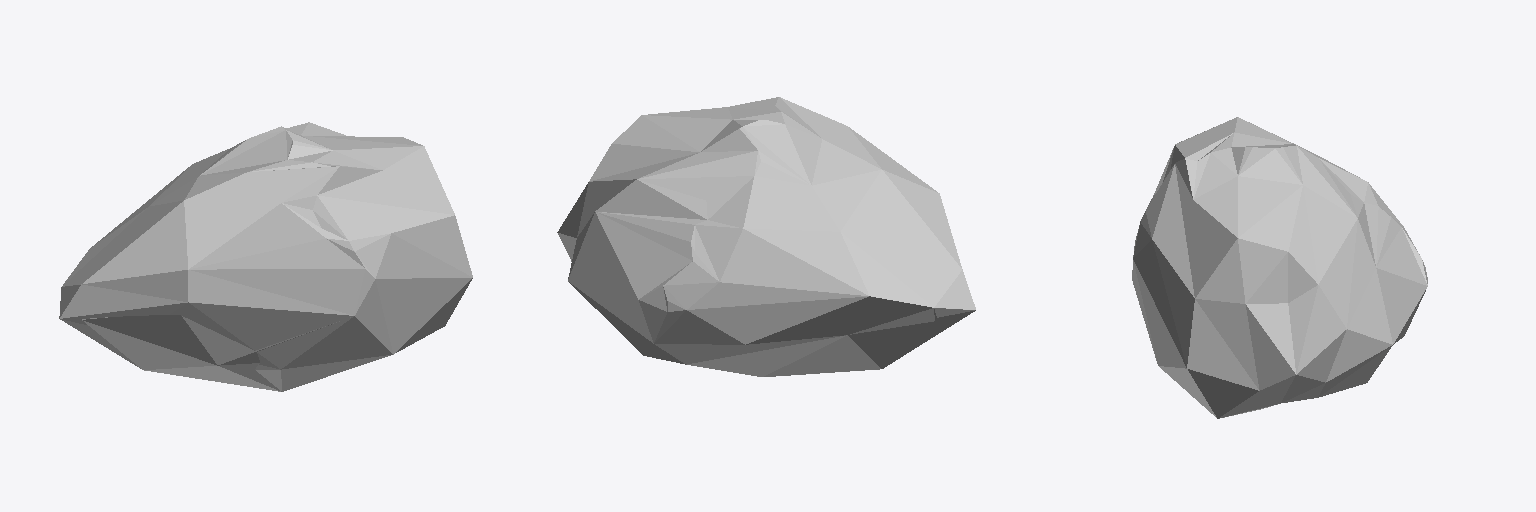
File: asteroid_3.obj
The picture shows the model from 3 angles: view 1: azimuth 30°, elevation 25°; view 2: azimuth 150°, elevation 25°; view 3: azimuth 270°, elevation 25°; orthographic projection.
Parts seen in each view (by area): view 1: Sphere01 initialShadingGroup initialShadingGroup1 polySurface1, Sphere01 initialShadingGroup polySurface1; view 2: Sphere01 initialShadingGroup initialShadingGroup1 polySurface1, Sphere01 initialShadingGroup polySurface1; view 3: Sphere01 initialShadingGroup initialShadingGroup1 polySurface1.
Boxes of the visible parts, <box> form: Sphere01 initialShadingGroup initialShadingGroup1 polySurface1: <box>62,122,472,391</box>; Sphere01 initialShadingGroup polySurface1: <box>59,270,392,391</box>; Sphere01 initialShadingGroup initialShadingGroup1 polySurface1: <box>557,97,962,376</box>; Sphere01 initialShadingGroup polySurface1: <box>848,270,975,368</box>; Sphere01 initialShadingGroup initialShadingGroup1 polySurface1: <box>1132,117,1427,418</box>.
Bounding box in the file's own units: 6.69 × 3.85 × 4.23.